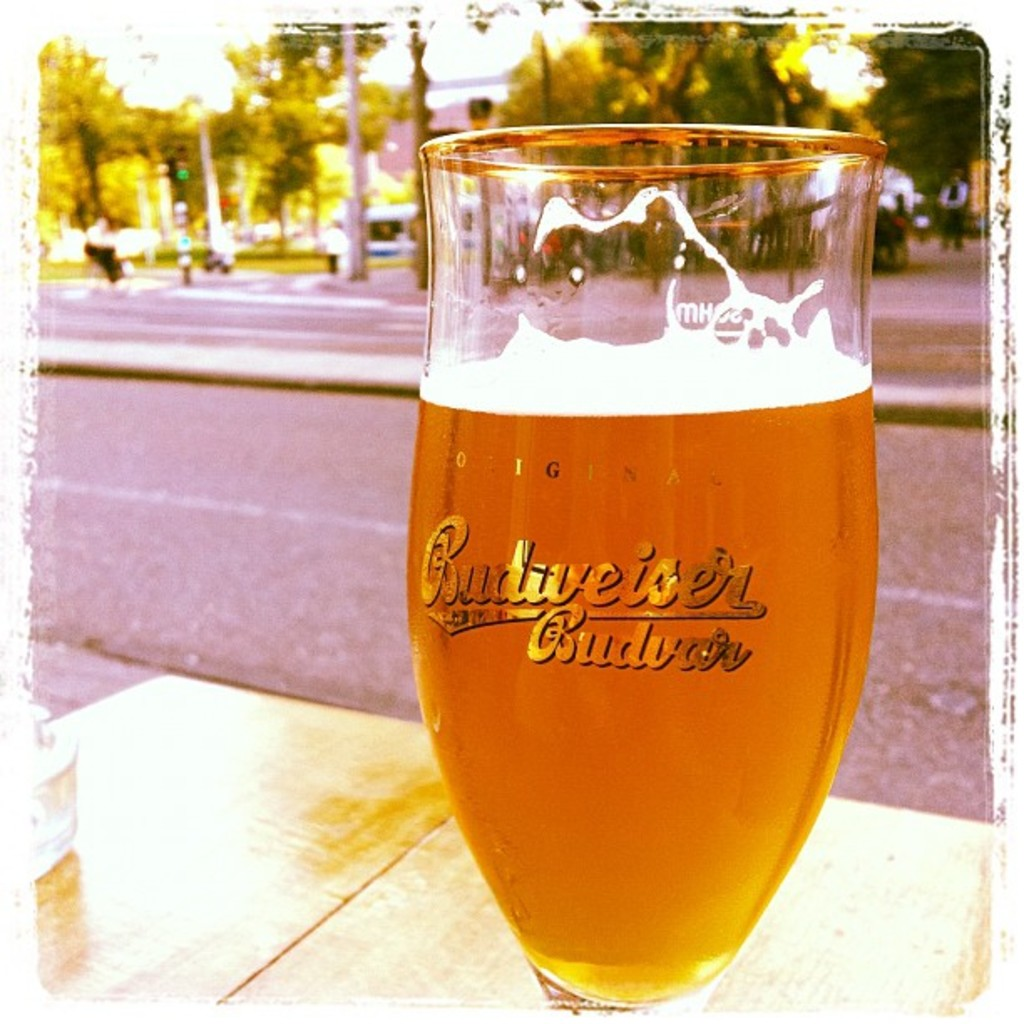Beer: (401, 304, 873, 998)
